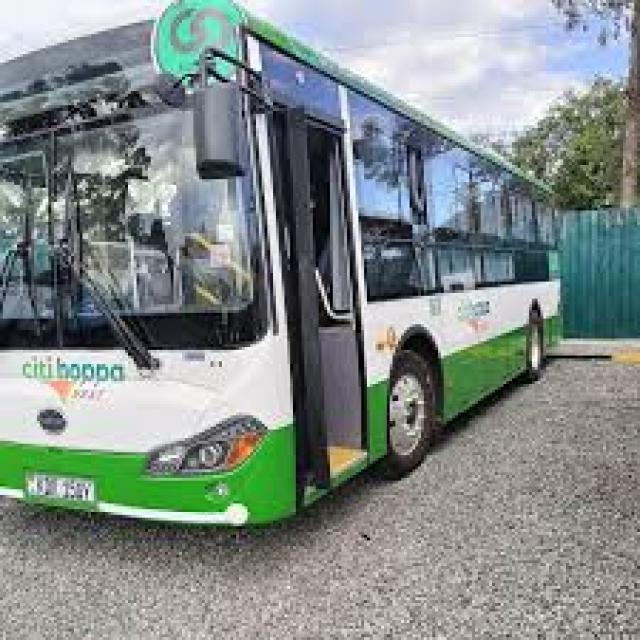bus: (0, 5, 594, 562)
